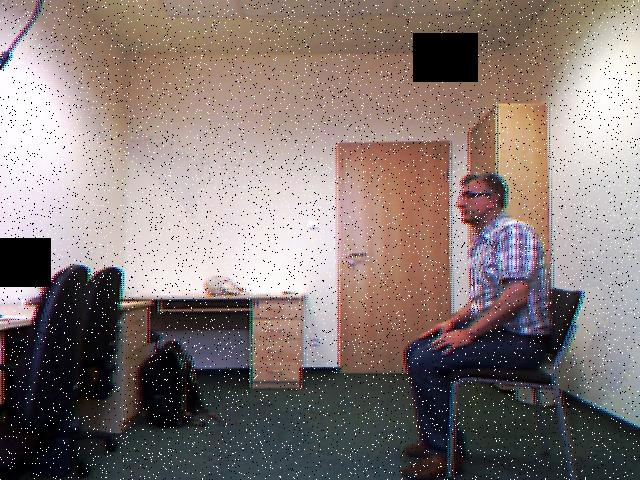sitting: (395, 170, 568, 480)
